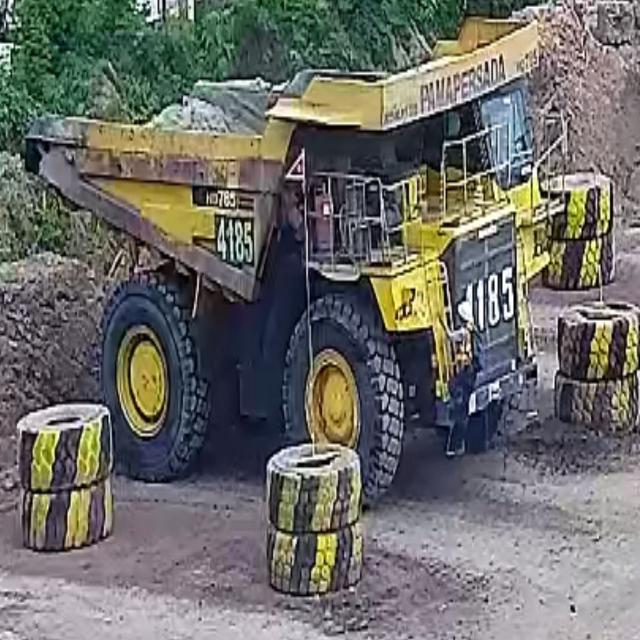dump_truck: (21, 13, 554, 520)
